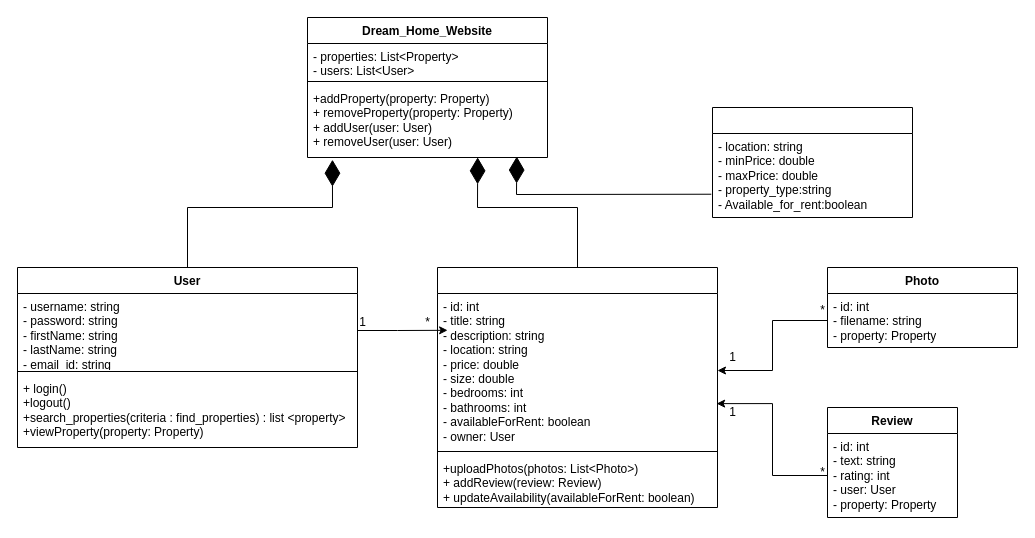
The diagram is 1035 pixels wide and 538 high, and some of its shapes have lost their labels. The shapes that lost their labels are listed below. From the top down, each one's box as (x1, y1, x2, y2) in pixels, then its label:
(712, 106, 912, 218): Find_properties
(436, 266, 718, 508): Property
